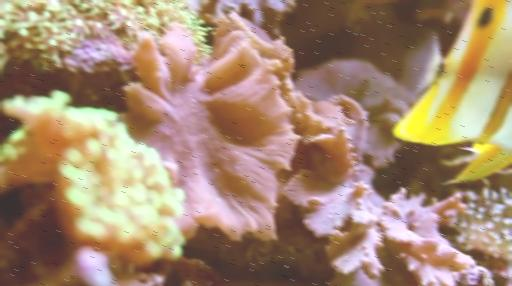Fish: (395, 0, 511, 181)
